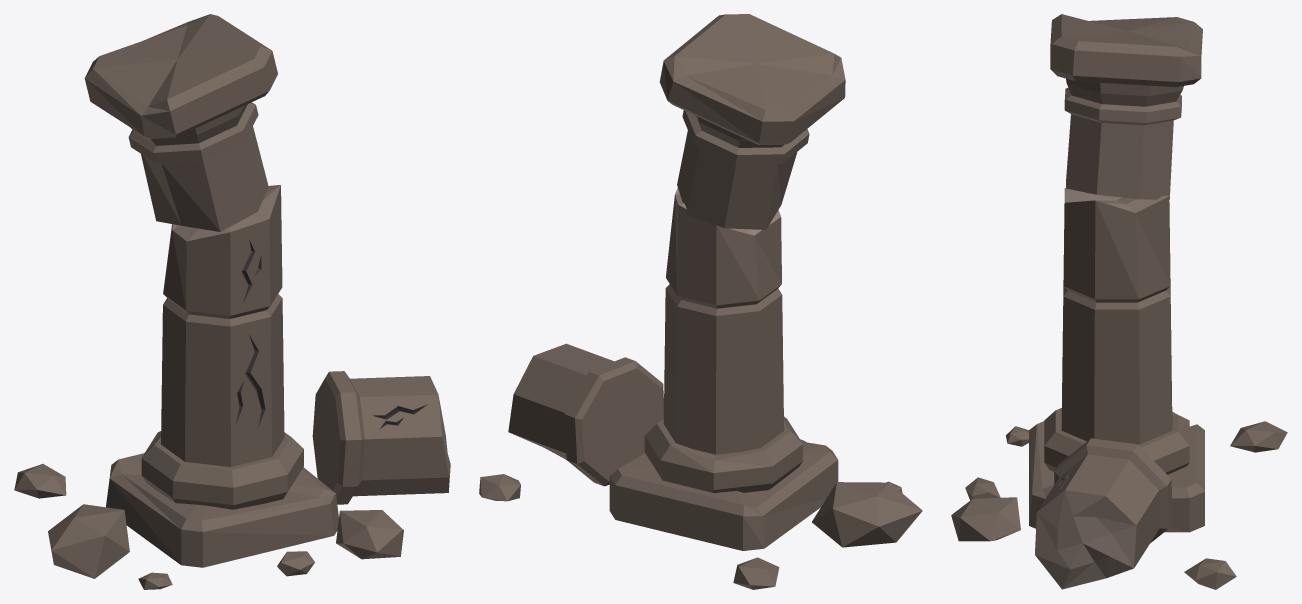
The model's file is broken-stone-column-c91287.glb.
3 renders of one model, left to right at view 1: azimuth 30°, elevation 25°; view 2: azimuth 150°, elevation 25°; view 3: azimuth 270°, elevation 25°, orthographic. The views are drawn at different scales.
Bounding box in the file's own units: 2.17 × 2.51 × 1.65.
